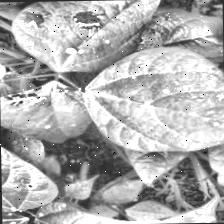Bean Rust: (85, 47, 224, 152), (11, 0, 165, 75), (0, 78, 91, 143), (0, 114, 58, 210), (110, 195, 220, 224), (29, 202, 158, 224)
